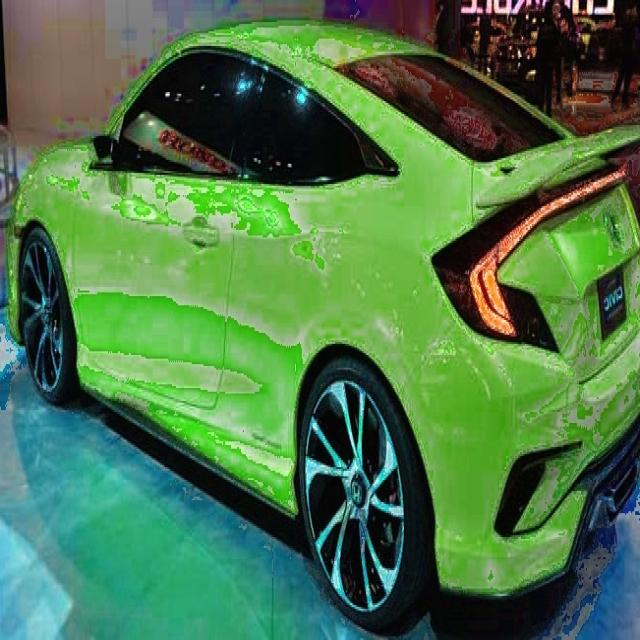green: (14, 9, 636, 640)
